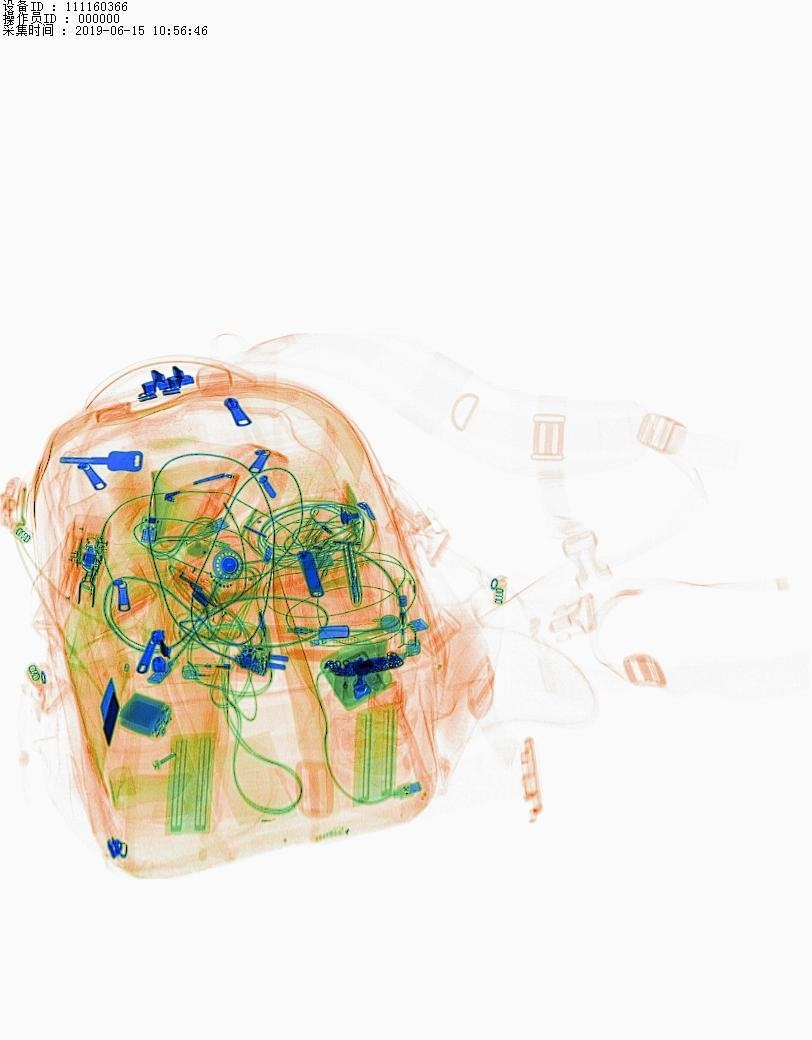NonmetallicFire: (175, 648, 285, 689)
